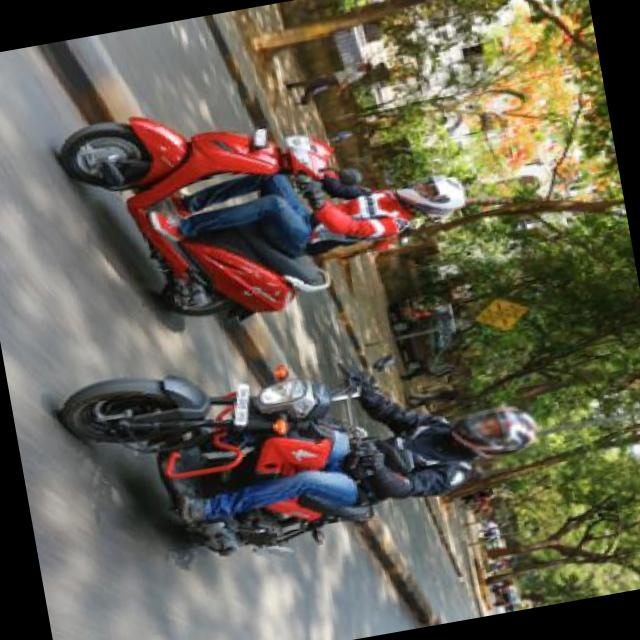With Helmet: (446, 394, 546, 470), (390, 165, 480, 225)
